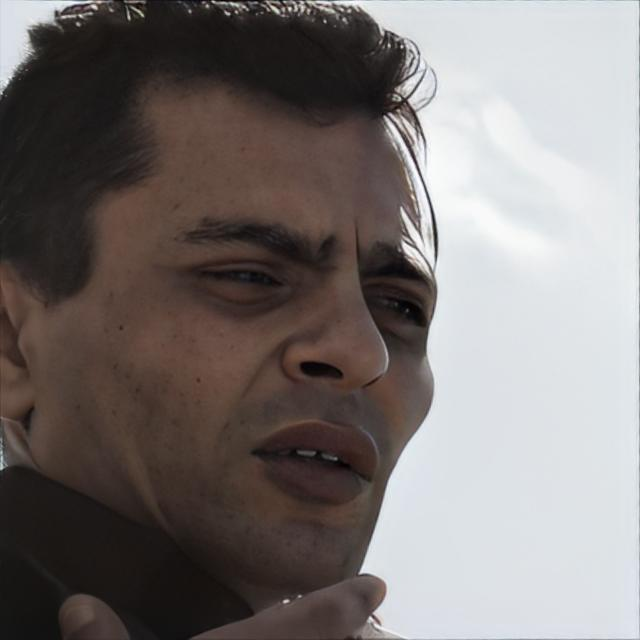disgust: (41, 70, 437, 600)
